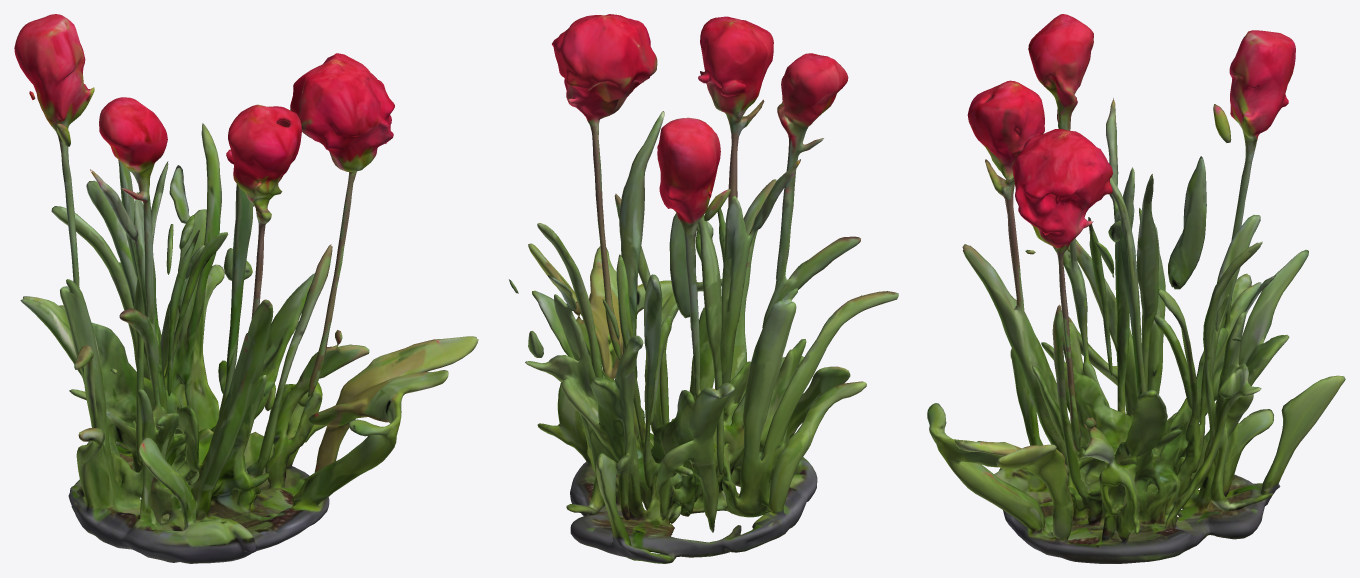
The model's file is herb0058.gltf.
The picture shows the model from 3 angles, left to right: view 1: azimuth 30°, elevation 25°; view 2: azimuth 150°, elevation 25°; view 3: azimuth 270°, elevation 25°; orthographic projection.
Parts seen in each view (by area): view 1: Mesh_0; view 2: Mesh_0; view 3: Mesh_0.
Boxes of the visible parts, x1=… form: Mesh_0: x1=14, y1=14, x2=478, y2=563; Mesh_0: x1=509, y1=14, x2=898, y2=563; Mesh_0: x1=927, y1=14, x2=1345, y2=563.
Bounding box in the file's own units: 1.77 × 1.99 × 1.68.
Materials: 1 (1 with a texture image).
